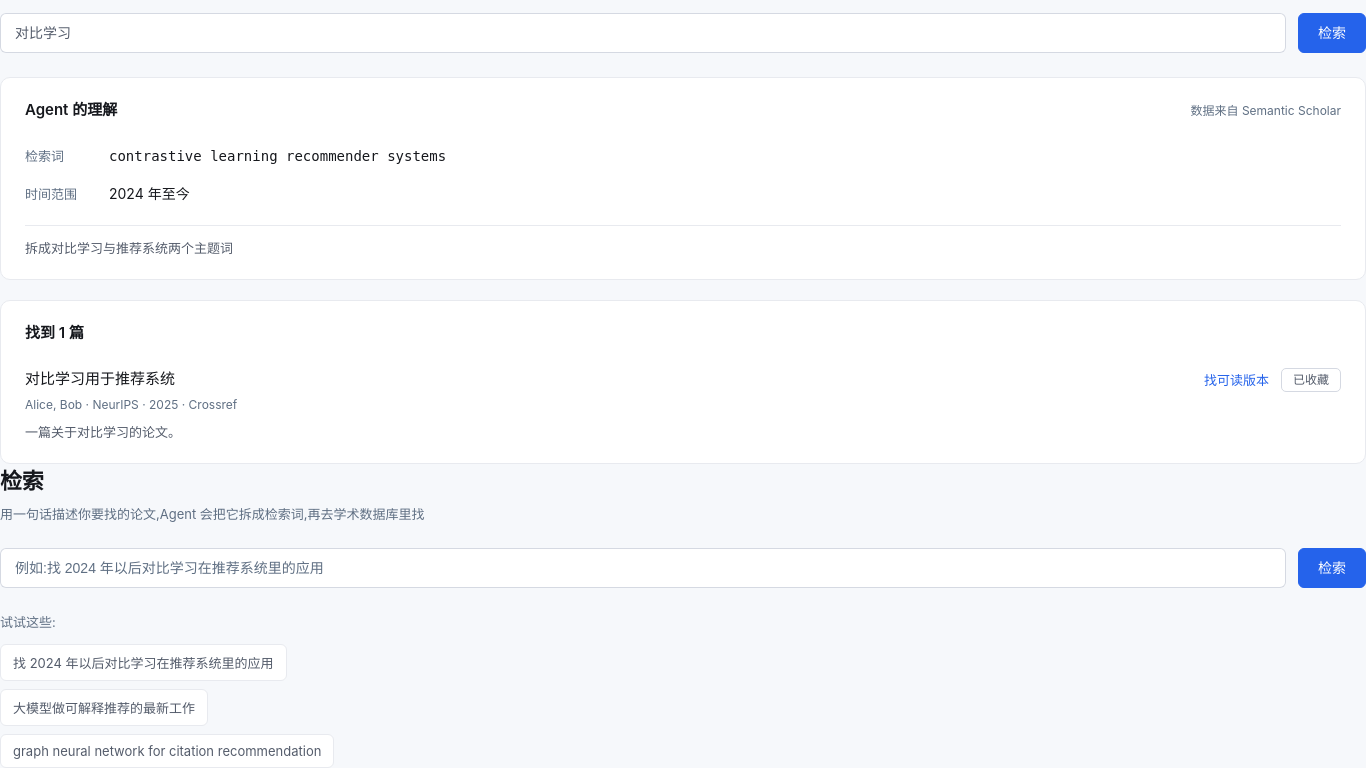
Test: SearchView › 已收藏的论文进来就显示「已收藏」,再点则取消
(page scrolled)
Type "对比学习" into the field with placeholder "例如:找 2024 年以后对比学习在推荐系统里的应用". click: (643, 568)
box: [15,549,1271,587]
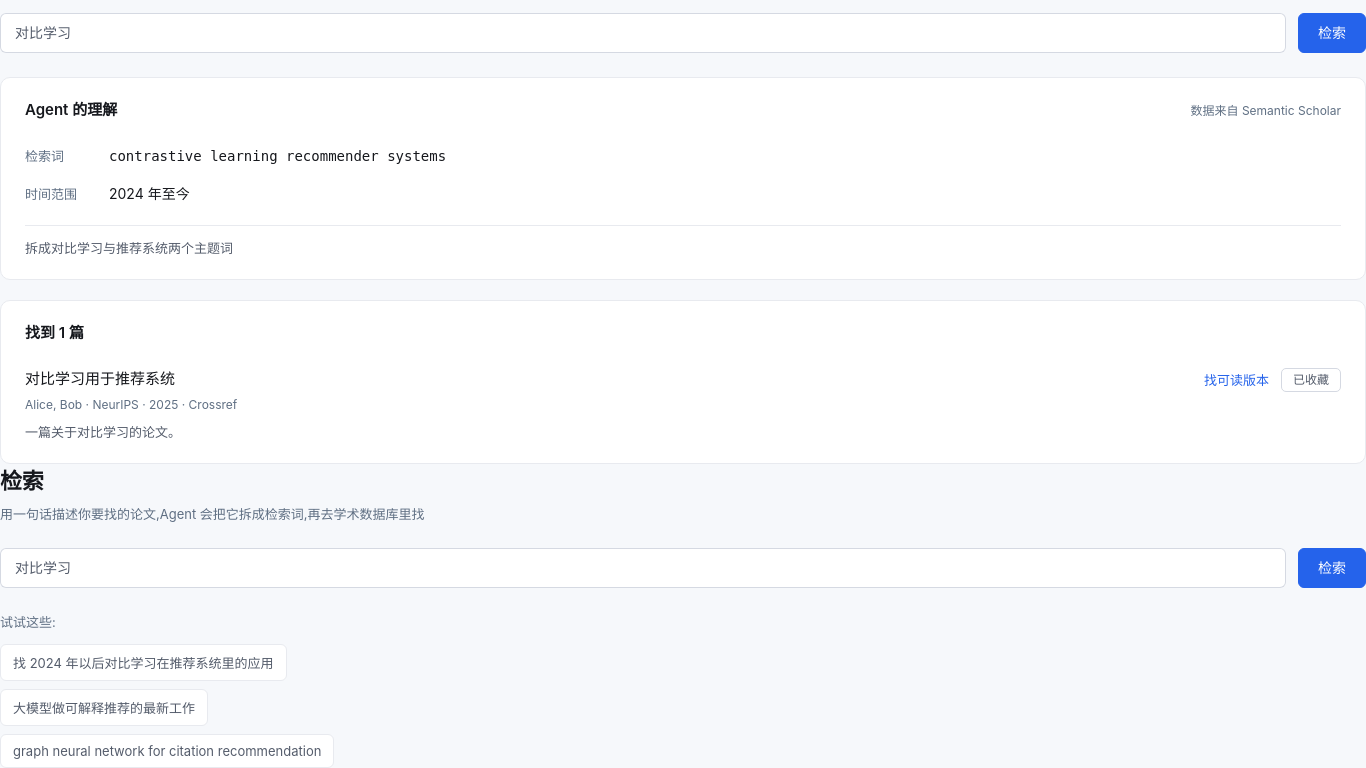
Submit the 2nd form "检索", box [0,548,1365,588]
(page scrolled)
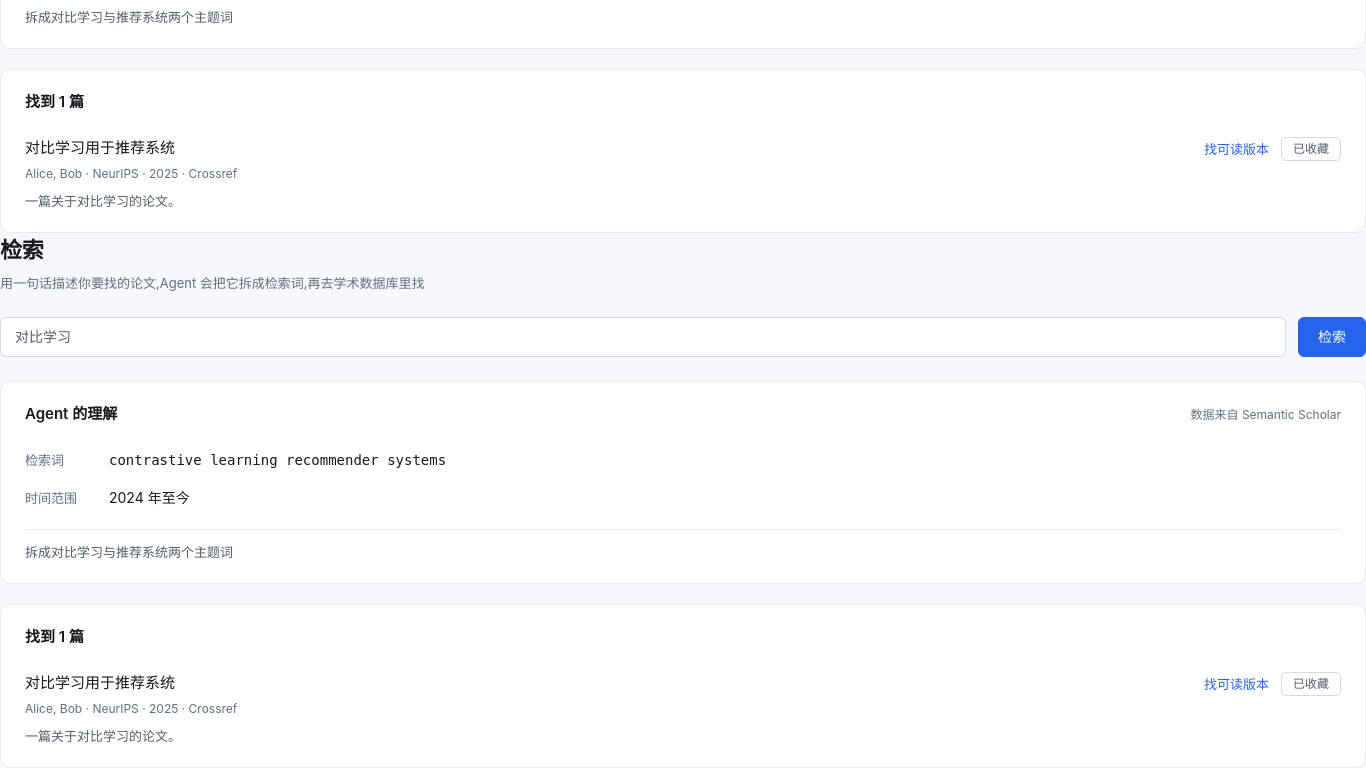
Result: the 2nd button "已收藏" is shown
Click the 2nd button "已收藏". click: (1311, 684)
box: [1281,672,1341,696]
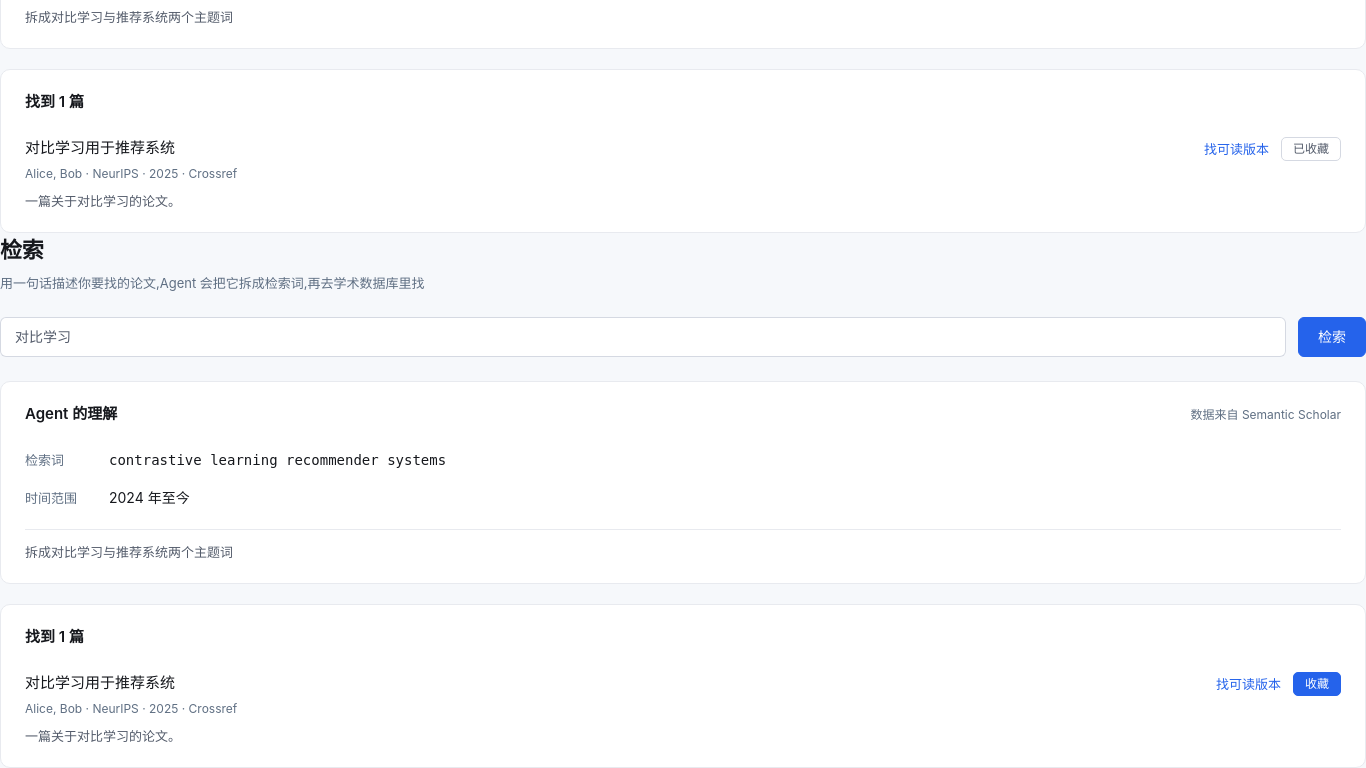
Expected: the text "已收藏" is not shown
Result: the button "收藏" is shown at [1293,672,1341,696]
